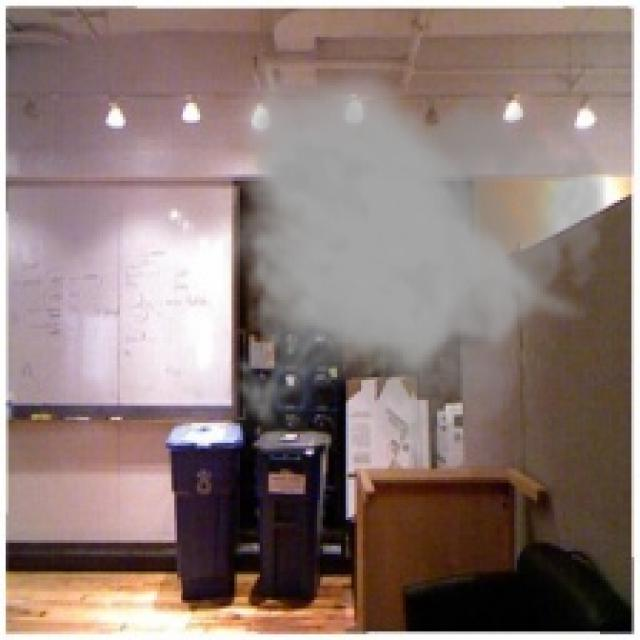smoke: (223, 57, 611, 472)
